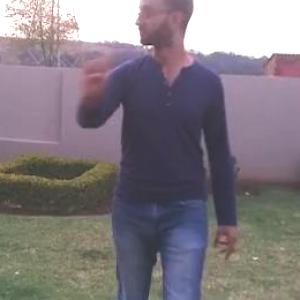takeoff-hand: (72, 29, 116, 93)
